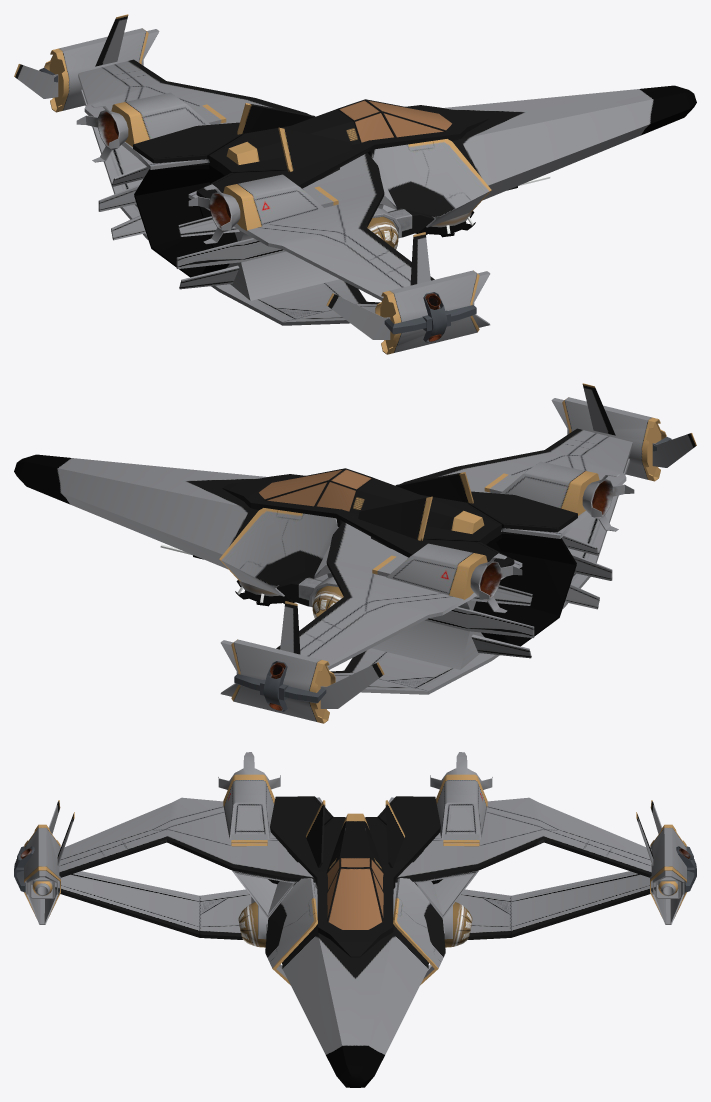
File: enemy_ship.obj
3 views of the same model, one above another, from view 1: azimuth 30°, elevation 25°; view 2: azimuth 150°, elevation 25°; view 3: azimuth 270°, elevation 25° (orthographic). The views are drawn at different scales.
Parts seen in each view (by area): view 1: Mesh__2_; view 2: Mesh__2_; view 3: Mesh__2_.
Part boxes in pixels (bbox=[...]): Mesh__2_: bbox=[14, 14, 696, 354]; Mesh__2_: bbox=[14, 383, 696, 723]; Mesh__2_: bbox=[14, 752, 696, 1087].
Size of the model in its own units: 20.06 by 5.2 by 22.61.
